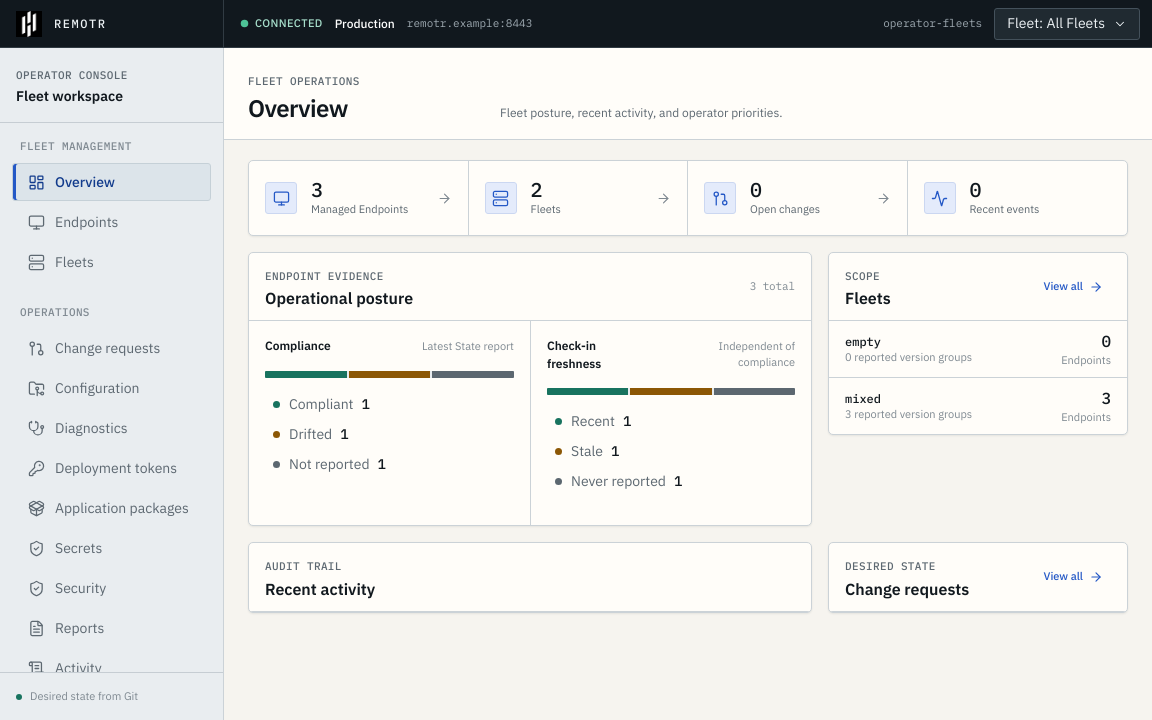
Scenario: FleetPage › keeps a zero-member Fleet visible and explains its empty detail
Click the button "Fleets": click(112, 262) [12, 243, 211, 281]
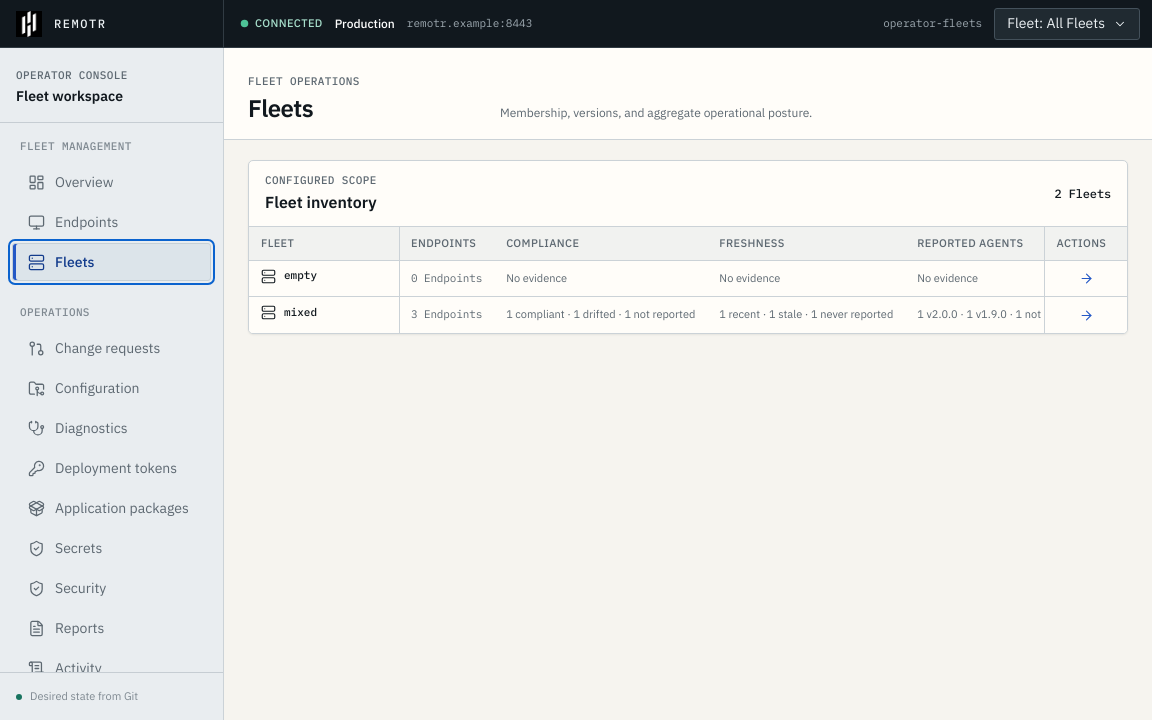
Click the button named "Open Fleet empty": click(1086, 279) [1072, 265, 1100, 293]
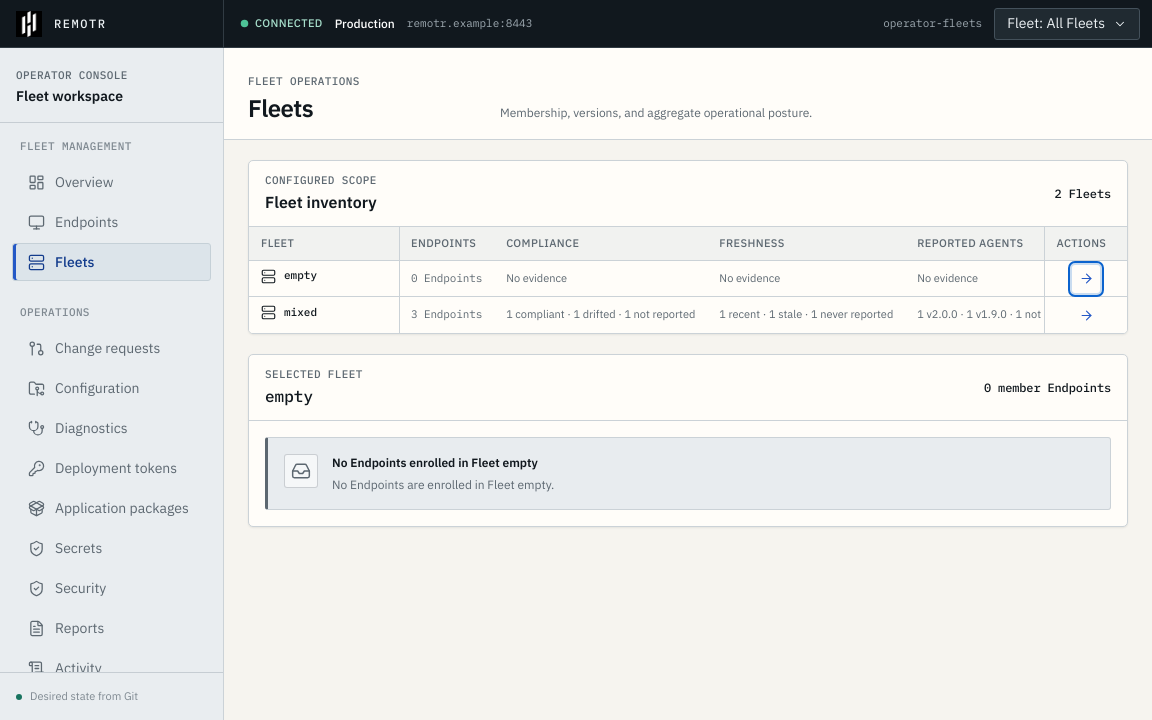
Expected: the button named "Open Fleet empty" is shown, [1072, 265, 1100, 293]
Expected: the text "No Endpoints are enrolled in Fleet empty." is shown, [332, 477, 554, 492]
